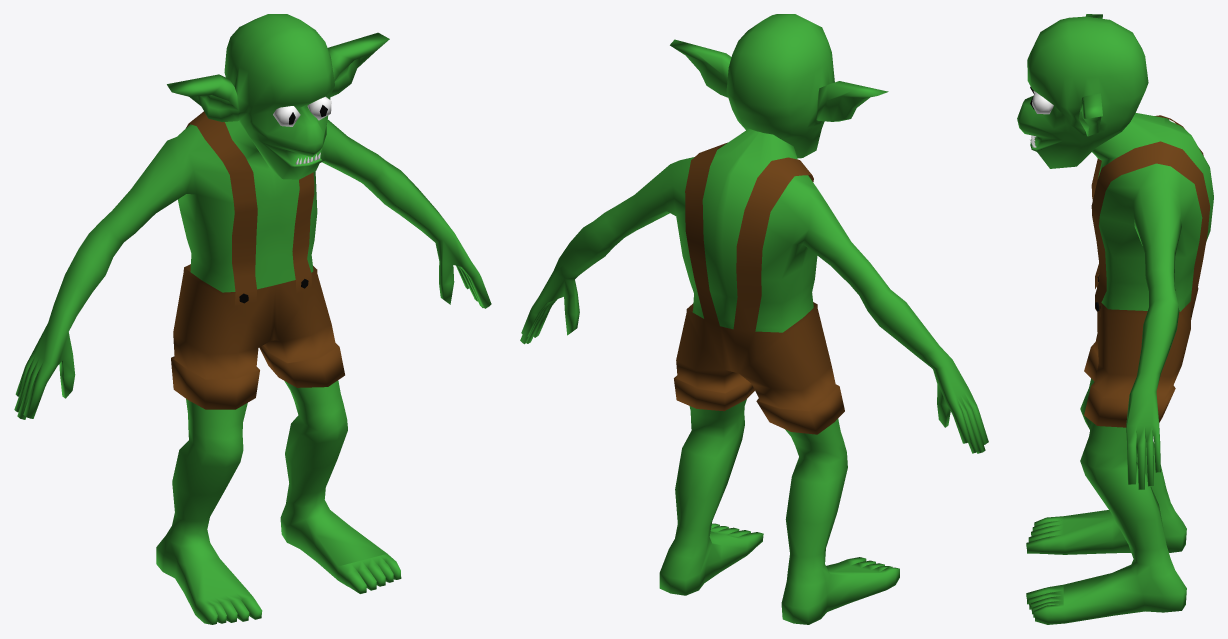
Rendered from gobln.fbx.
3 renders of one model, left to right at view 1: azimuth 30°, elevation 25°; view 2: azimuth 150°, elevation 25°; view 3: azimuth 270°, elevation 25°, orthographic.
Parts seen in each view (by area): view 1: gobln, pantol; view 2: gobln, pantol; view 3: gobln, pantol.
Part boxes in pixels (x1,y1,x2,y2): gobln: (14,14,491,624); pantol: (171,111,344,409); gobln: (520,14,988,624); pantol: (674,142,844,434); gobln: (1017,14,1213,624); pantol: (1084,115,1210,427).
Bounding box in the file's own units: 195 × 225 × 71.92.
Materials: 3 (3 with a texture image).
